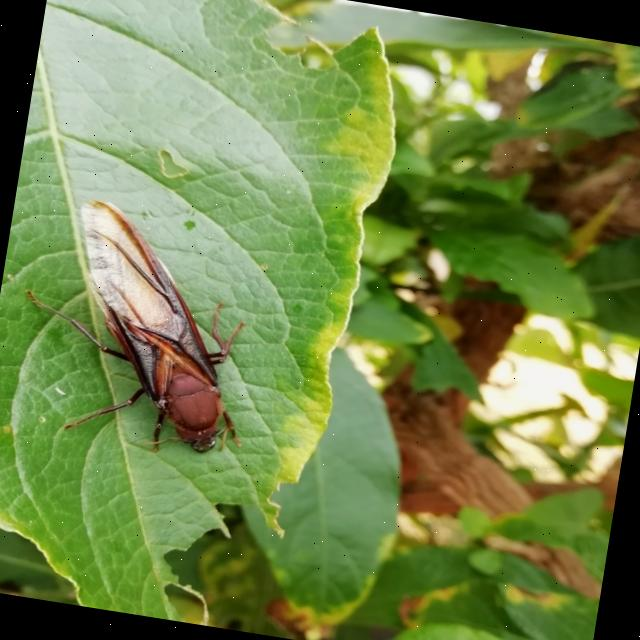Alive-Female-Alate: (3, 189, 276, 466)
